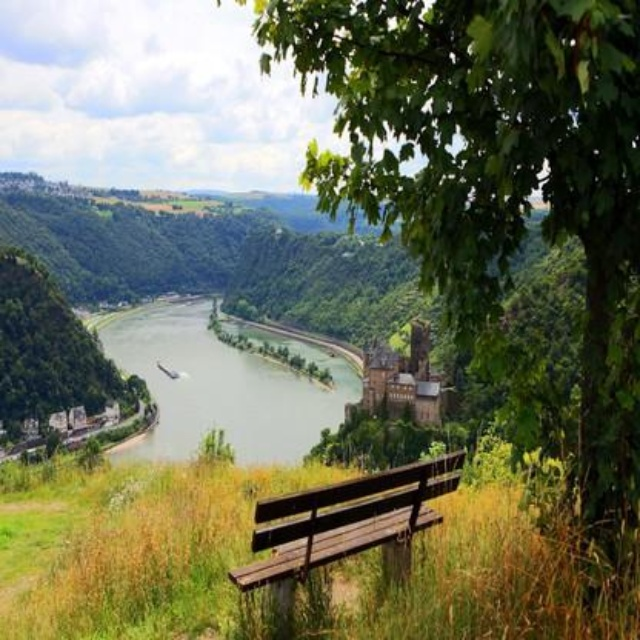obstacle: (222, 437, 483, 626)
